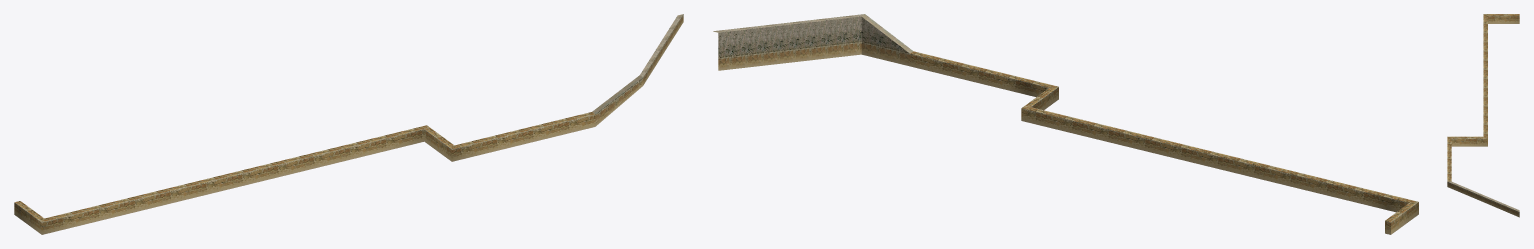
File: Mission8_VillageWall02.glb
The picture shows the model from 3 angles, left to right: view 1: azimuth 30°, elevation 25°; view 2: azimuth 150°, elevation 25°; view 3: azimuth 270°, elevation 25°; orthographic projection. The views are drawn at different scales.
Visible parts, largest first — view 1: MISSION8_VILLAGEWALL02; view 2: MISSION8_VILLAGEWALL02; view 3: MISSION8_VILLAGEWALL02.
Part boxes in pixels (x1=…): MISSION8_VILLAGEWALL02: x1=14, y1=14, x2=683, y2=234; MISSION8_VILLAGEWALL02: x1=713, y1=14, x2=1418, y2=234; MISSION8_VILLAGEWALL02: x1=1447, y1=14, x2=1519, y2=217.
Size of the model in its own units: 56 by 3 by 8.
4 materials, 4 textured.
